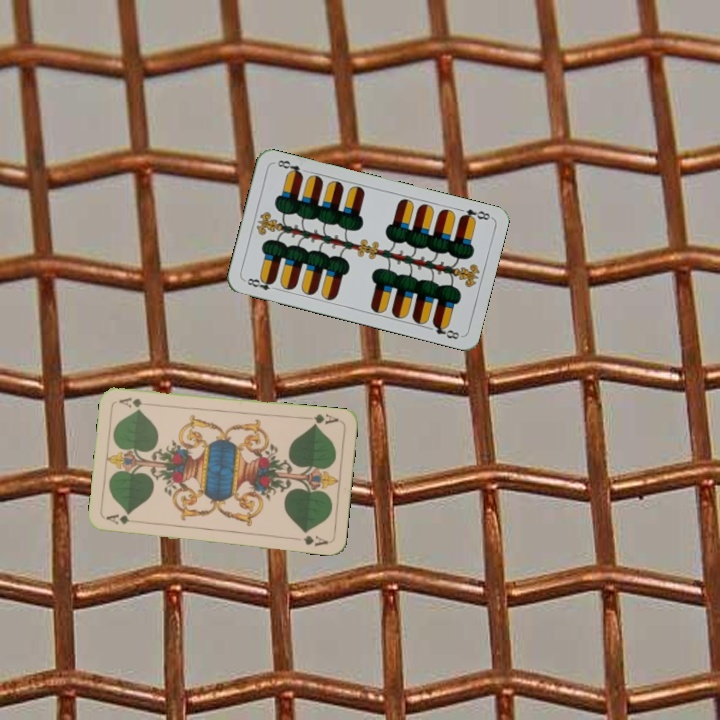E8: (241, 274, 281, 293), (456, 205, 494, 224)
GA: (302, 410, 341, 429), (102, 510, 143, 527)
